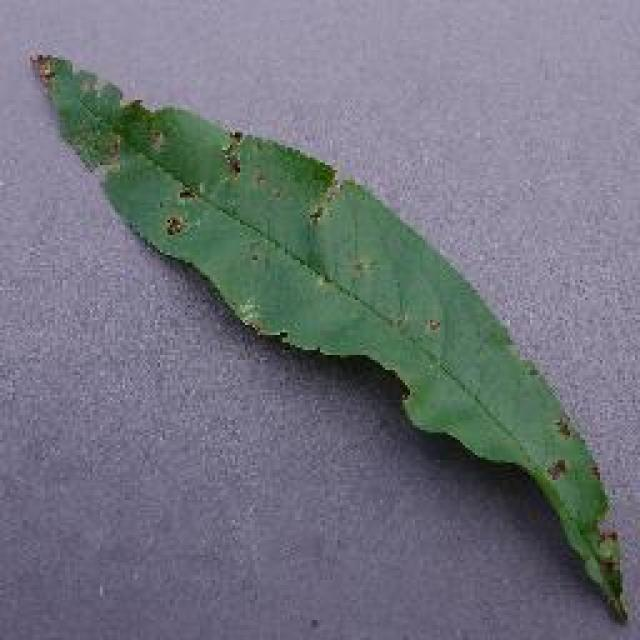Peach_Bacterial_Spot: (84, 45, 374, 307)
